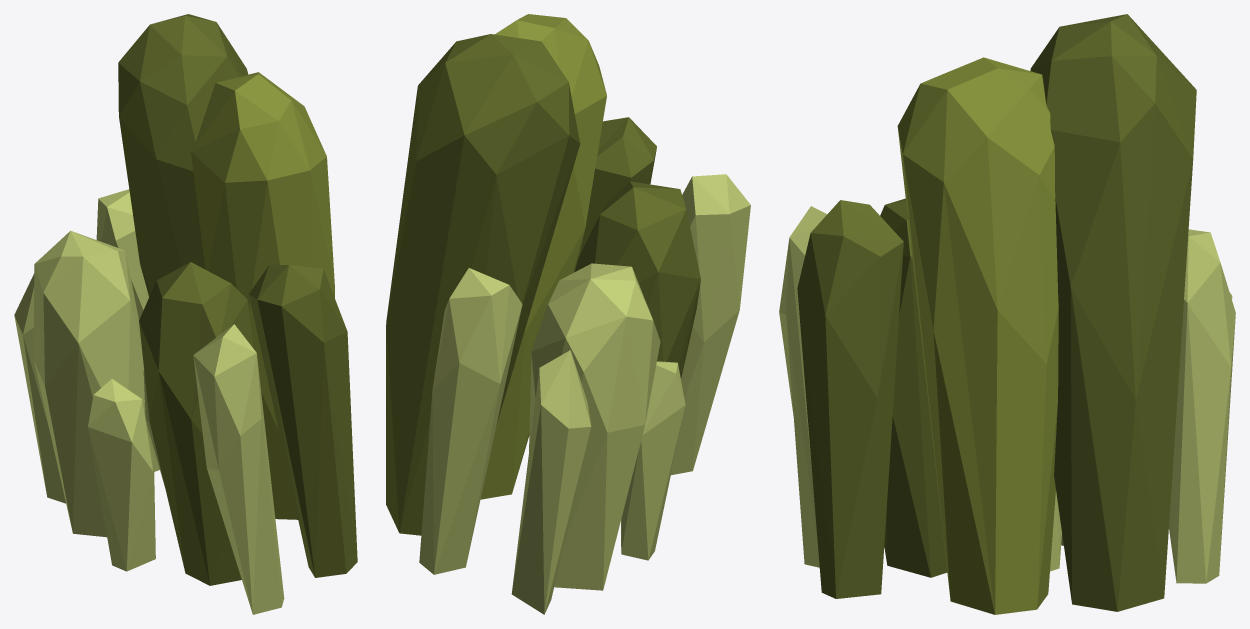
The model's file is ea_swamp_grass_01f_pre__9__lev1.glb.
3 views of the same model, side by side, from view 1: azimuth 30°, elevation 25°; view 2: azimuth 150°, elevation 25°; view 3: azimuth 270°, elevation 25° (orthographic). The views are drawn at different scales.
Parts seen in each view (by area): view 1: ea_swamp_grass_01f_pre__9__lev1; view 2: ea_swamp_grass_01f_pre__9__lev1; view 3: ea_swamp_grass_01f_pre__9__lev1.
Boxes of the visible parts, bbox=[...] form: ea_swamp_grass_01f_pre__9__lev1: bbox=[14, 14, 357, 614]; ea_swamp_grass_01f_pre__9__lev1: bbox=[386, 14, 750, 614]; ea_swamp_grass_01f_pre__9__lev1: bbox=[779, 14, 1235, 614].
Bounding box in the file's own units: 0.7316 × 1.4 × 1.01.
Materials: 1 (1 with a texture image).
